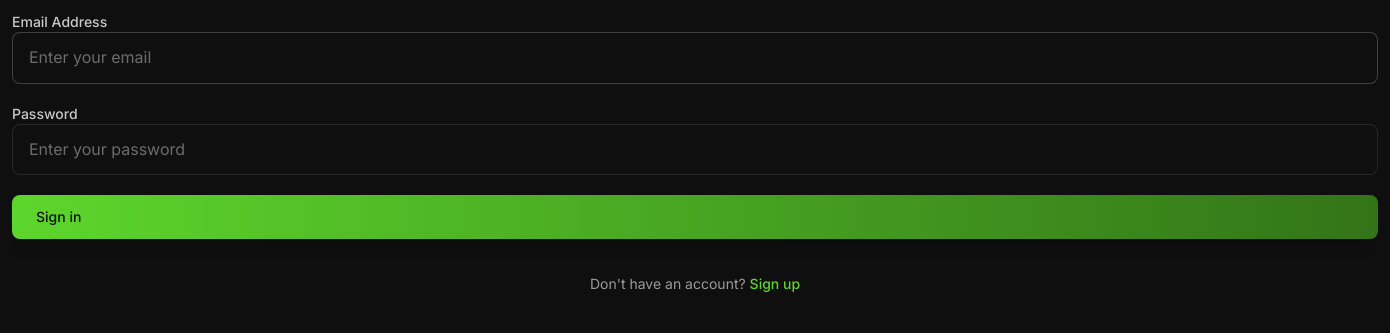
Test case: LoginForm › validates email format on form submission
# Fill in invalid email and valid password
Type "invalid-email" into the field labelled "Email Address" at (695, 58), box [12,32,1378,84]
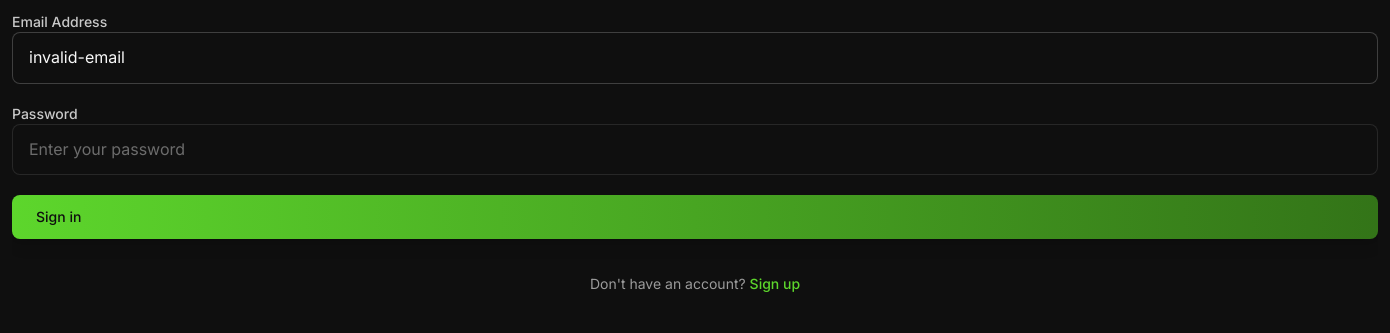
Type "password123" into the password field labelled "Password" at (695, 149), box [12,124,1378,175]
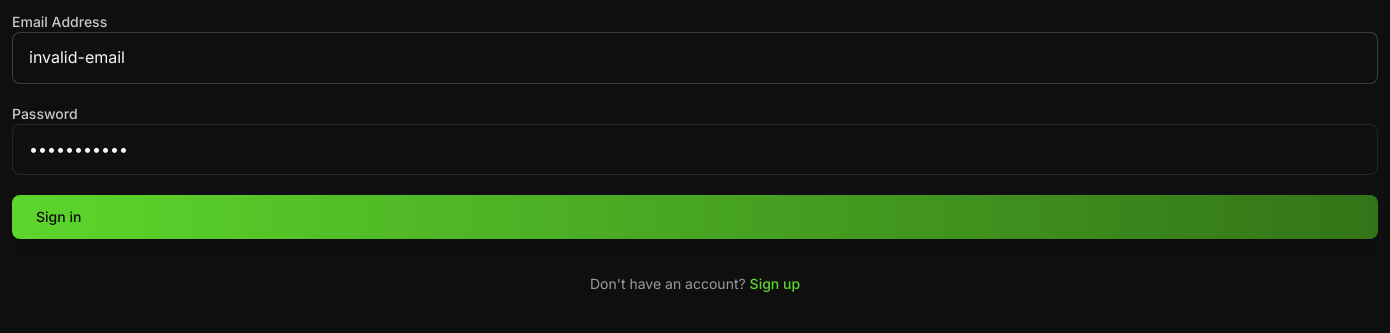
# Submit the form
Submit the form "Sign in"
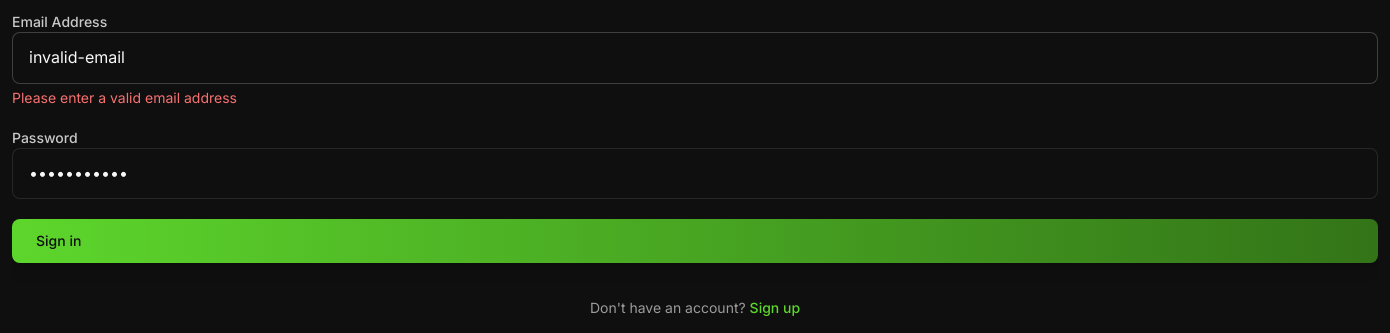
Expected: the text "Please enter a valid email address" is shown, [12,89,237,106]
